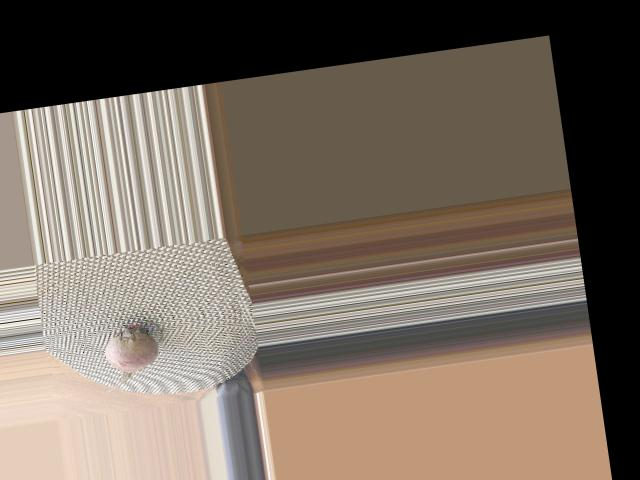beet: (93, 318, 170, 392)
